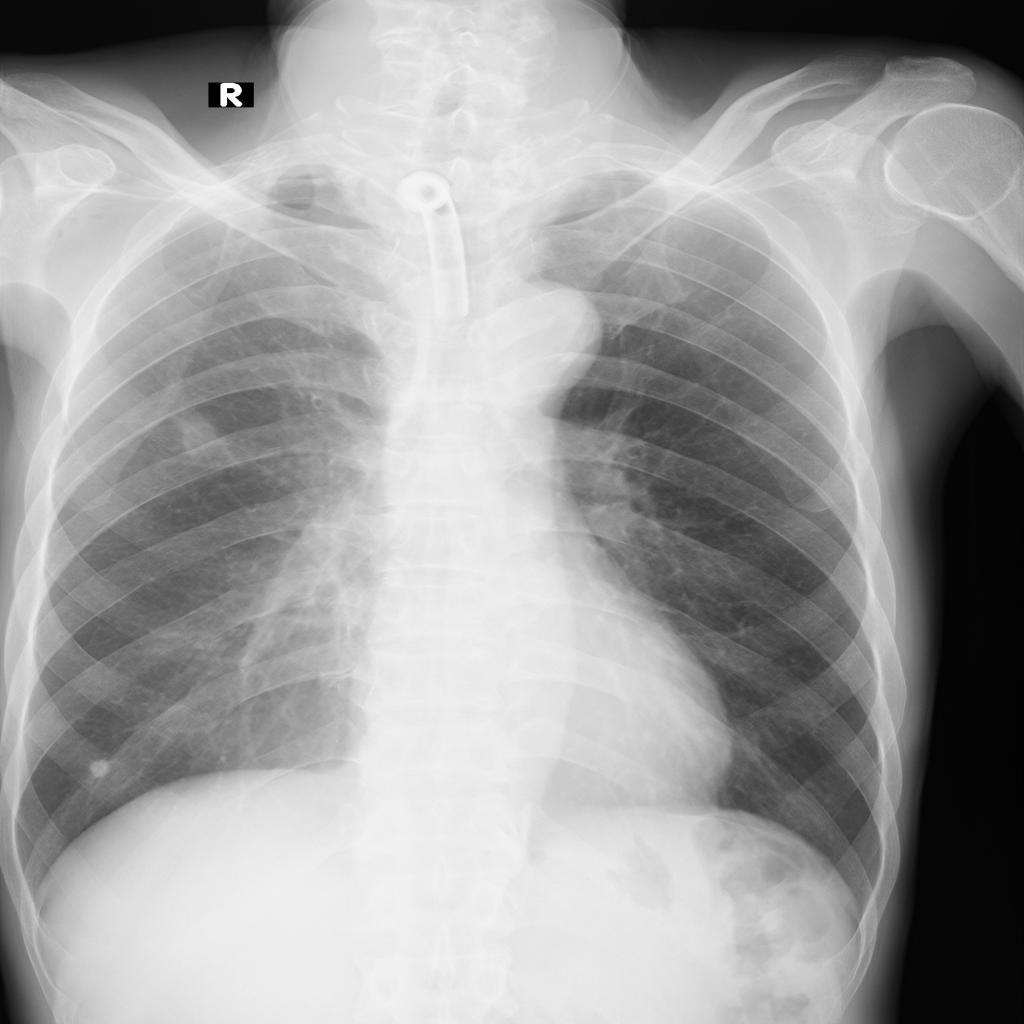Nodule: (92, 760, 109, 777)
